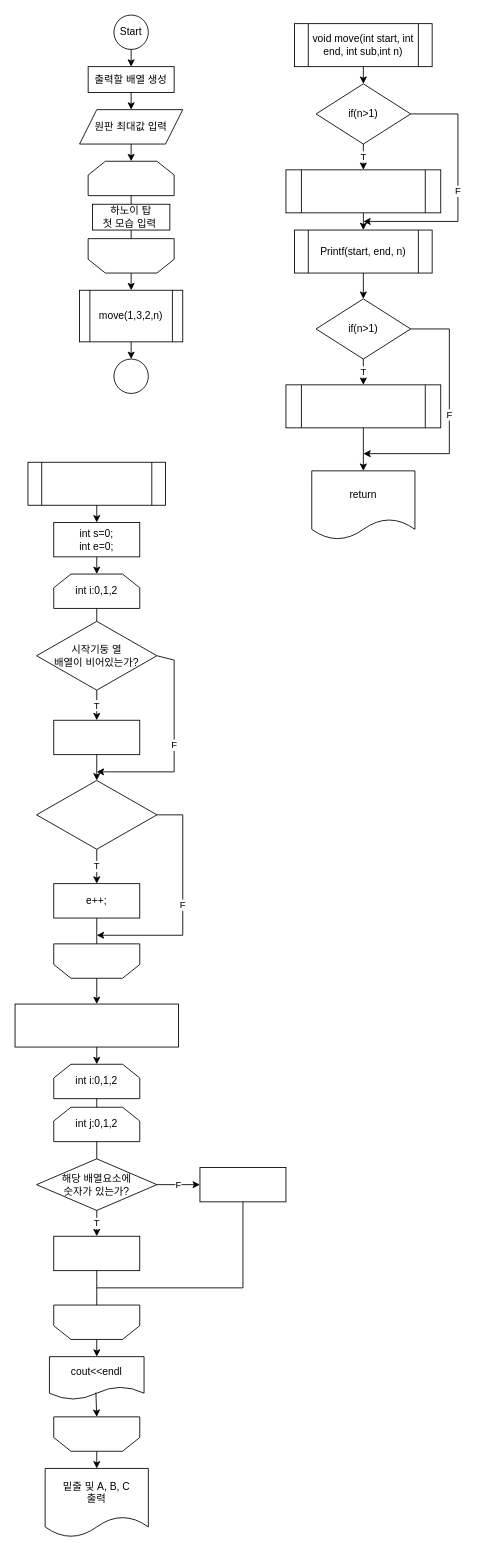
The diagram is 480 pixels wide and 1552 high, and some of its shapes have lost their labels. The shapes that lost their labels are listed below. From the top down, each one's centre as x and y in pixels, then its label:
(130,178): int i:2,-1,0
(363,191): move(start, sub, end,n-1)
(130,375): End
(363,406): move(sub, end, start, n-1)
(96,483): void Print(int start, int end, int n)
(96,737): s++;
(96,814): 도착기둥 열 배열이 비어있는가?
(96,1025): top[e-1][end - 1] = top[s][start - 1]; top[s][start - 1] = '\0';
(242,1184): 빈칸 출력
(96,1253): 글자 출력
